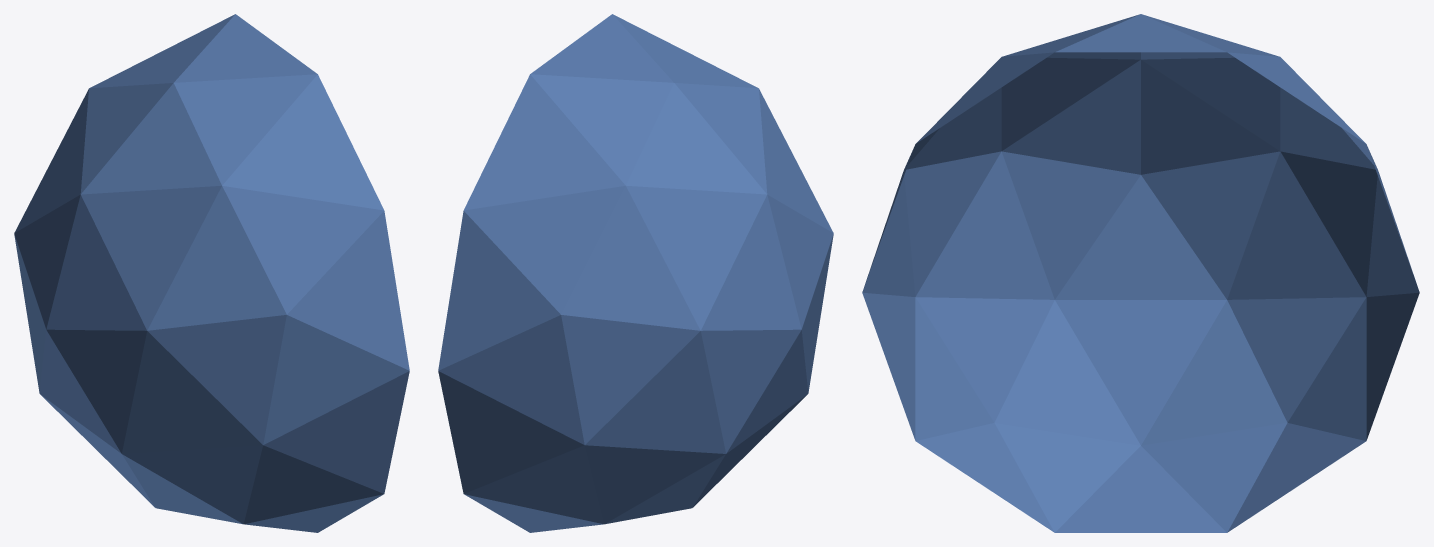
File: Sky.FBX
3 renders of one model, left to right at view 1: azimuth 30°, elevation 25°; view 2: azimuth 150°, elevation 25°; view 3: azimuth 270°, elevation 25°, orthographic. The views are drawn at different scales.
Parts seen in each view (by area): view 1: Sky; view 2: Sky; view 3: Sky.
Boxes of the visible parts, <box> form: Sky: <box>14,14,409,532</box>; Sky: <box>438,14,833,532</box>; Sky: <box>862,14,1419,532</box>.
Bounding box in the file's own units: 141341 × 268847 × 282682.
